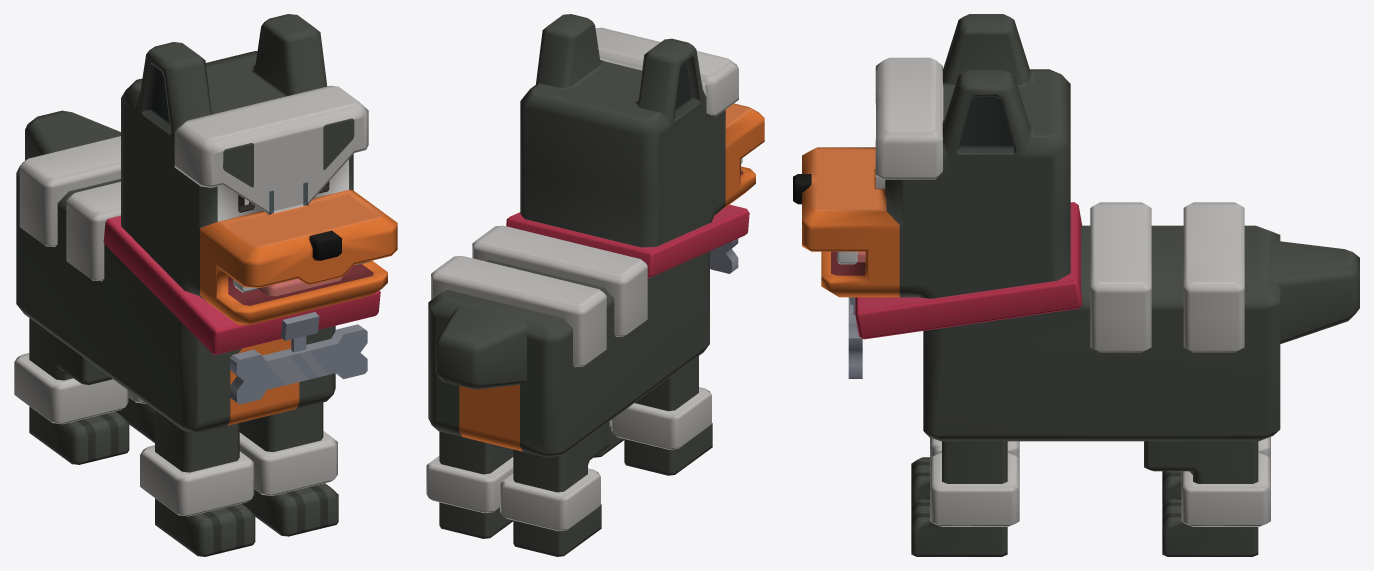
Rendered from PM197_BoneNecklace.fbx.
3 views of the same model, side by side, from view 1: azimuth 30°, elevation 25°; view 2: azimuth 150°, elevation 25°; view 3: azimuth 270°, elevation 25° (orthographic). The views are drawn at different scales.
Parts seen in each view (by area): view 1: model; view 2: model; view 3: model.
Part boxes in pixels (<box>): model: <box>14,14,397,556</box>; model: <box>426,14,764,556</box>; model: <box>793,14,1359,556</box>.
Bounding box in the file's own units: 0.7705 × 2 × 2.17.
